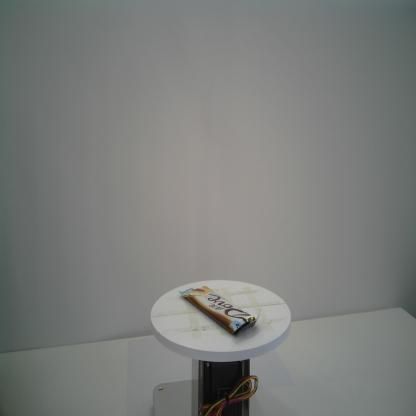Chocolate: (179, 284, 260, 336)
